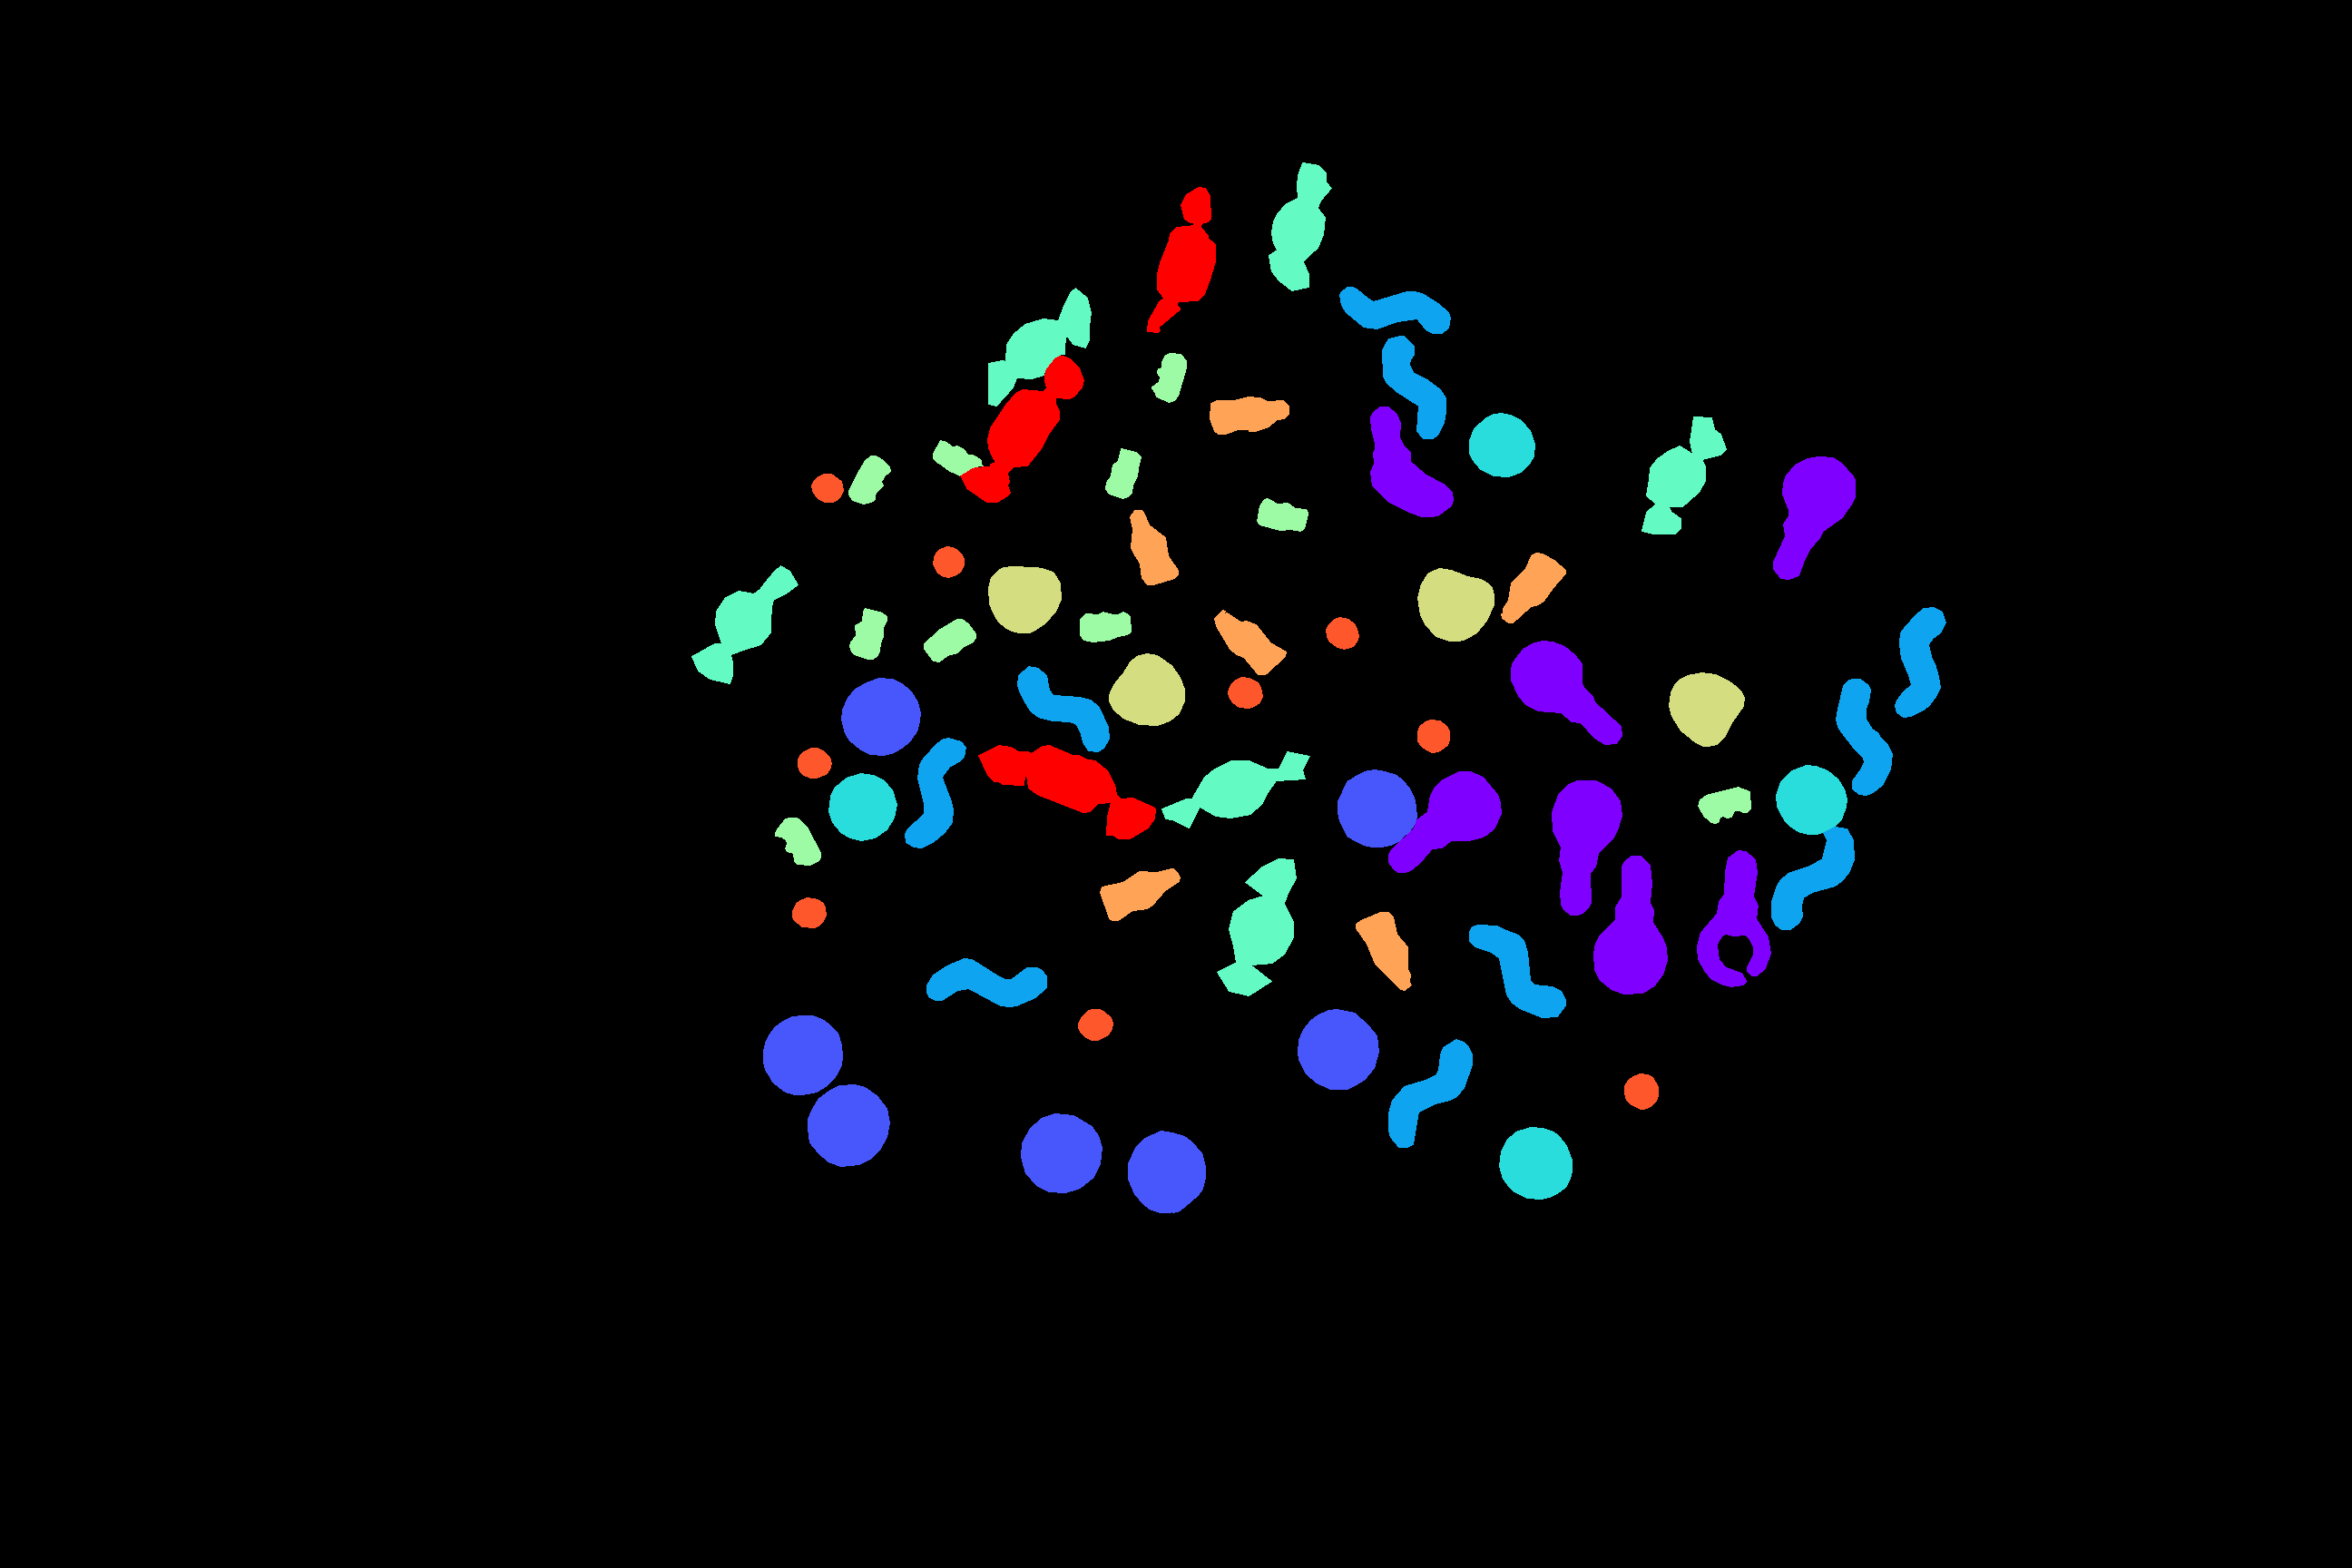apricot_jellies: (1669, 672, 1745, 745), (1417, 569, 1493, 640), (1109, 653, 1185, 724), (989, 567, 1060, 632)
bear: (775, 817, 821, 865), (924, 620, 975, 661), (849, 455, 891, 504), (849, 607, 887, 658), (933, 439, 984, 476), (1698, 788, 1750, 822), (1106, 448, 1141, 499), (1151, 353, 1187, 402), (1080, 611, 1130, 642), (1256, 499, 1307, 530)
coin_candy: (807, 1085, 889, 1166), (1297, 1010, 1379, 1089), (1020, 1113, 1101, 1192), (1129, 1130, 1206, 1213), (763, 1015, 842, 1094), (1337, 770, 1416, 847), (842, 677, 920, 754)
cola bottle candies: (1215, 609, 1286, 674), (1501, 553, 1564, 623), (1356, 912, 1411, 991), (1099, 868, 1179, 920), (1130, 509, 1178, 584), (1209, 397, 1288, 434)
dummies: (1510, 640, 1622, 744), (1388, 772, 1501, 871), (1594, 856, 1668, 994), (1773, 457, 1855, 579), (1698, 851, 1771, 987), (1552, 780, 1622, 915), (1370, 406, 1452, 516)
riesen: (961, 355, 1083, 502), (978, 745, 1155, 838), (1146, 187, 1215, 332)
skittles: (1624, 1073, 1657, 1109), (1417, 719, 1449, 753), (1078, 1010, 1113, 1040), (933, 546, 964, 577), (1326, 618, 1358, 649), (793, 898, 826, 927), (798, 747, 831, 777), (1228, 677, 1262, 707), (812, 474, 843, 502)
sourworms: (1388, 1040, 1472, 1146), (1468, 924, 1564, 1017), (1771, 826, 1853, 929), (1017, 667, 1109, 751), (905, 738, 966, 847), (1836, 679, 1892, 794), (1383, 336, 1445, 438), (926, 959, 1046, 1006), (1895, 607, 1946, 718), (1339, 287, 1451, 332)
tofifee: (1500, 1127, 1571, 1199), (1776, 765, 1846, 835), (828, 773, 896, 840), (1468, 413, 1535, 476)
vollmilch_brocken: (691, 565, 798, 682), (989, 287, 1090, 406), (1162, 751, 1309, 828), (1216, 859, 1295, 996), (1641, 416, 1726, 534), (1269, 163, 1332, 291)
